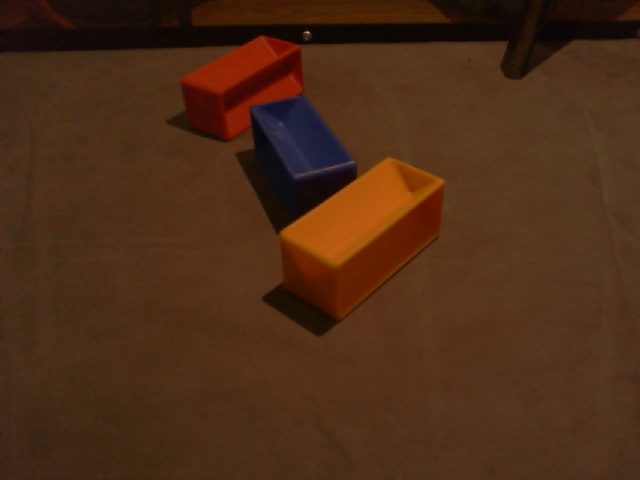BlueSample: (247, 95, 358, 226)
RedSample: (178, 34, 306, 142)
YellowSample: (276, 155, 446, 325)
